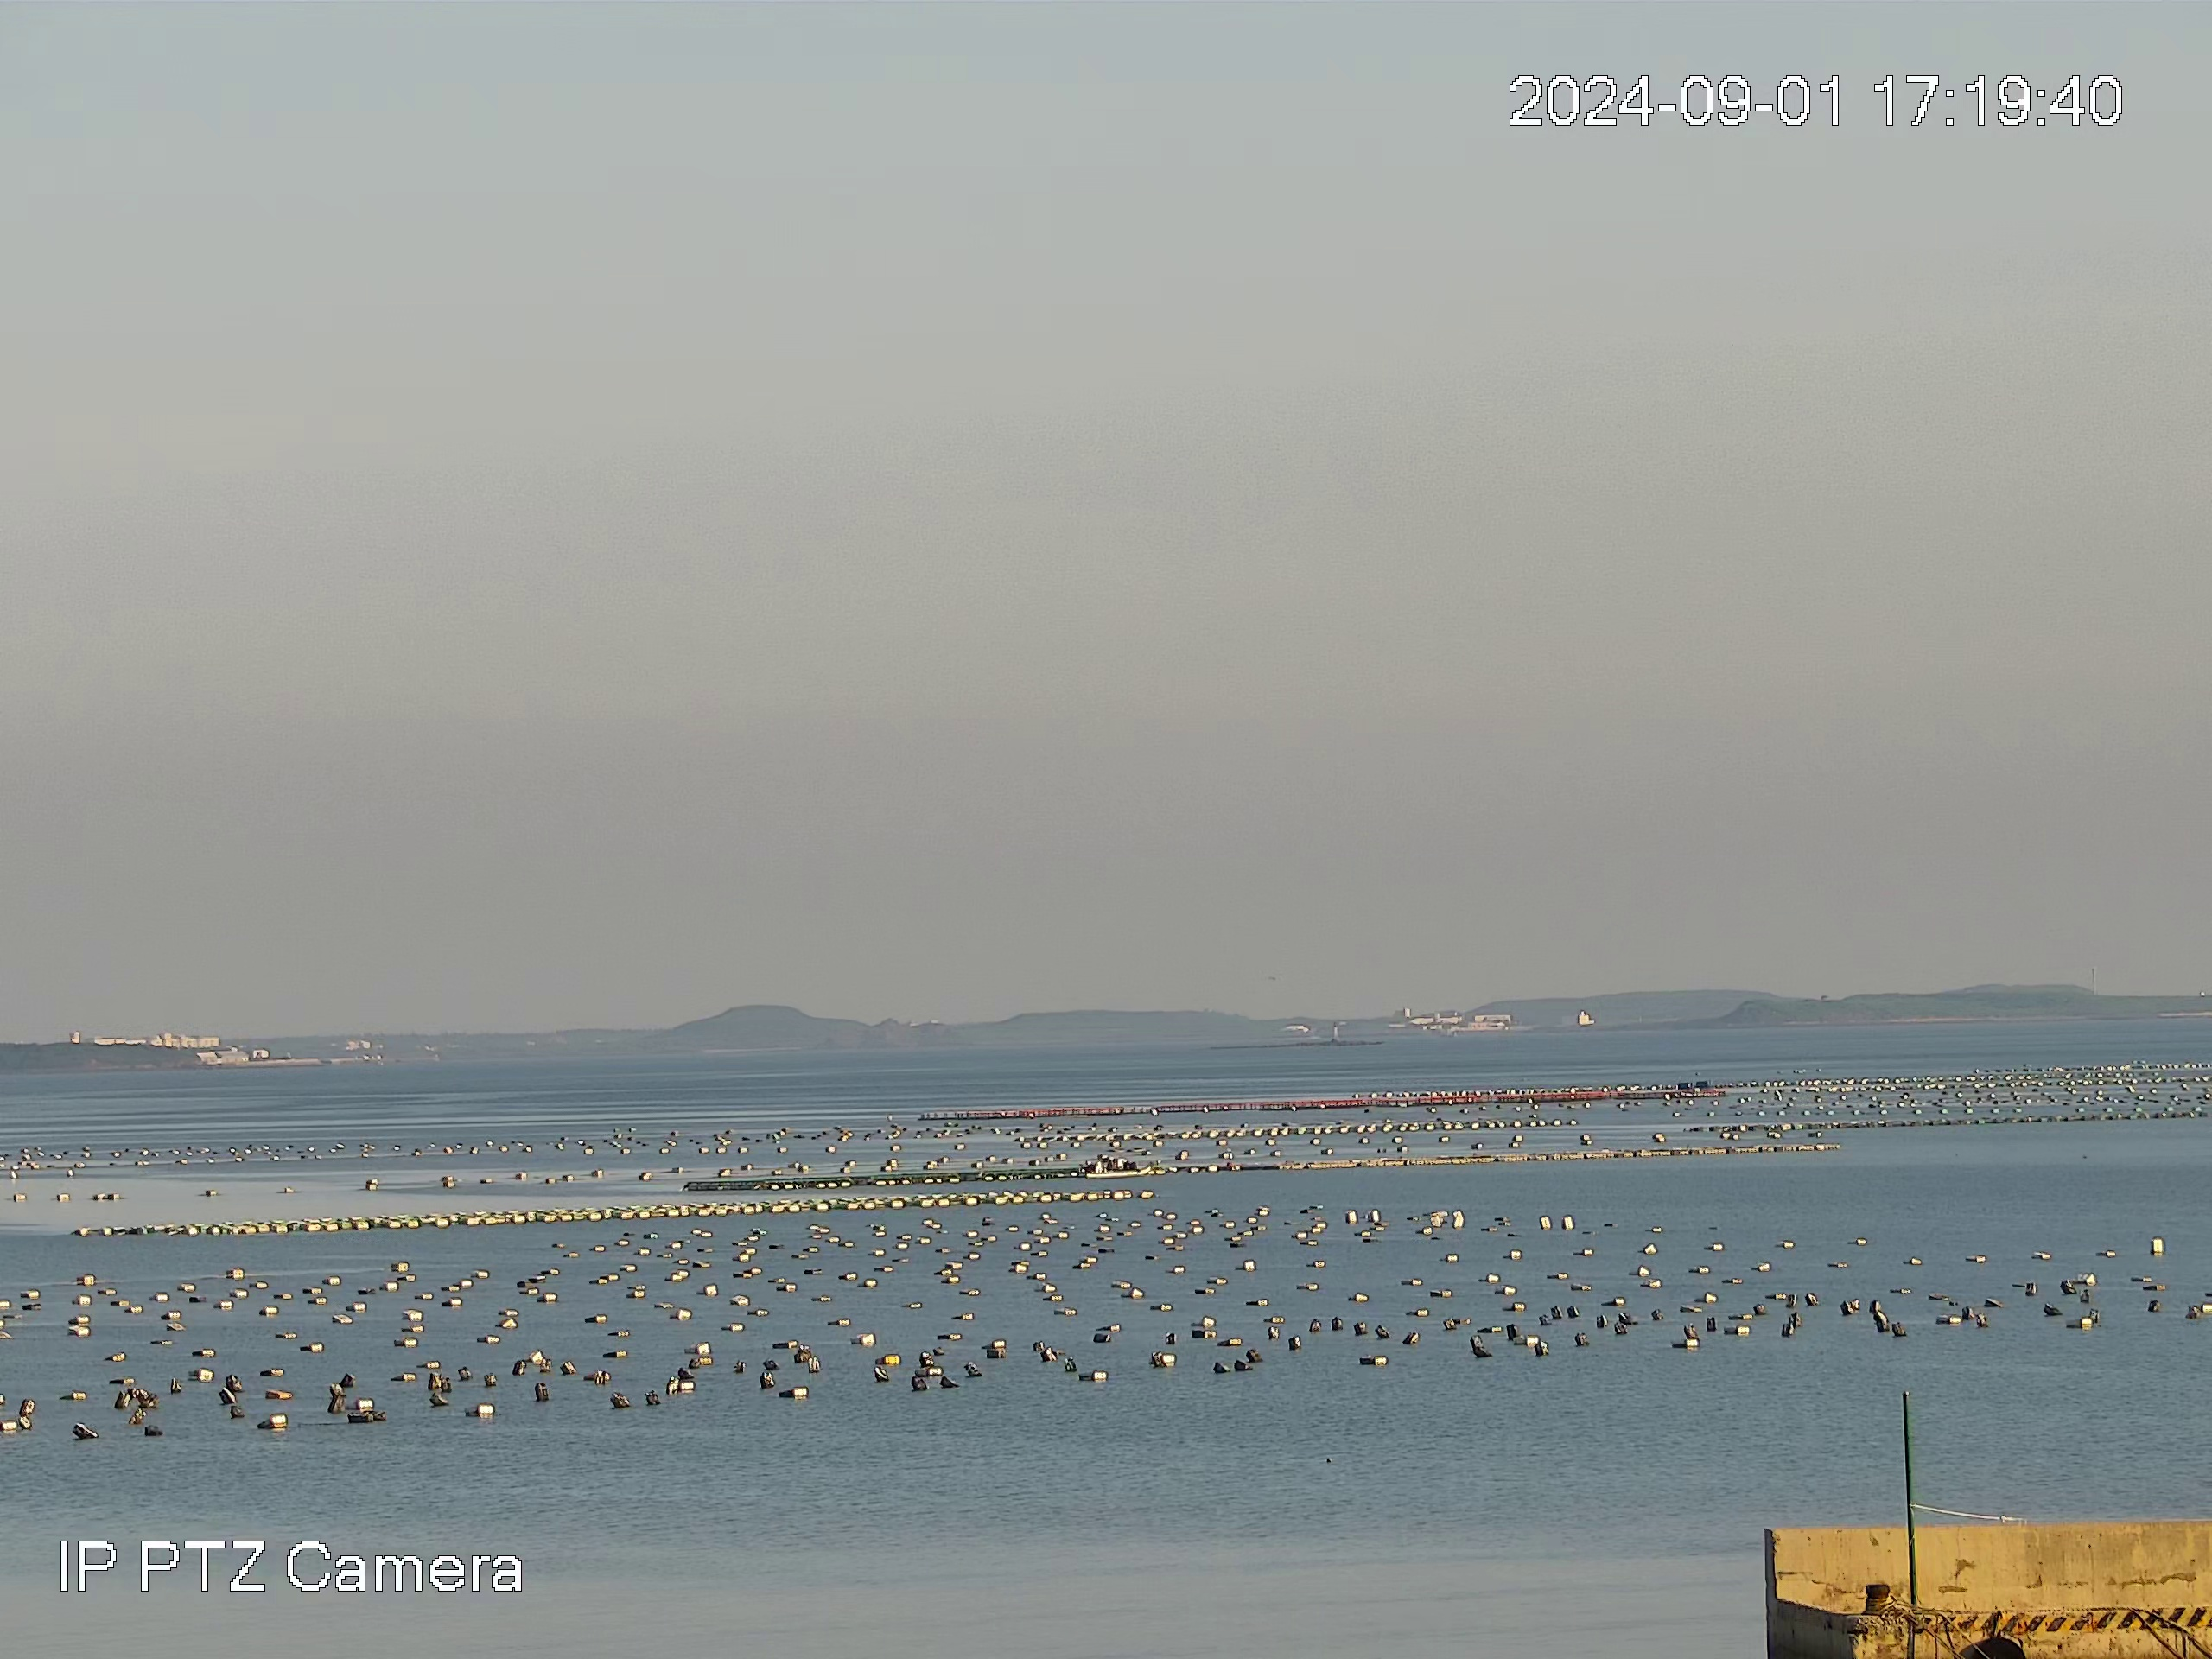boat: (1092, 1150, 1157, 1176)
